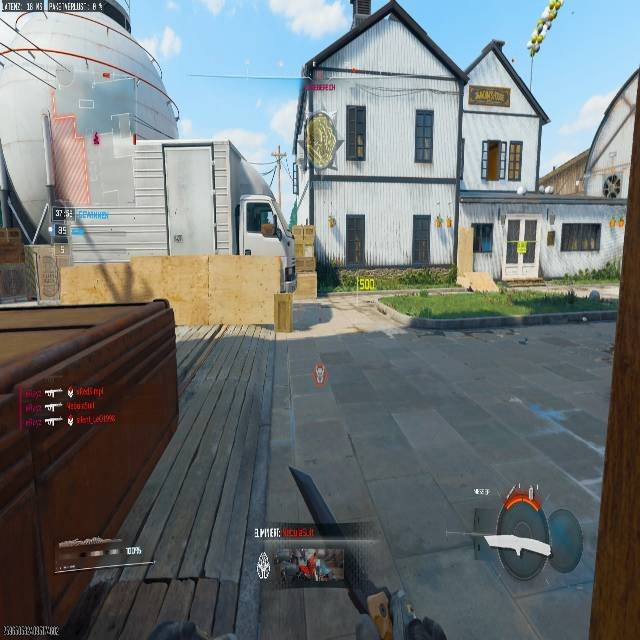player: (602, 174, 621, 198)
